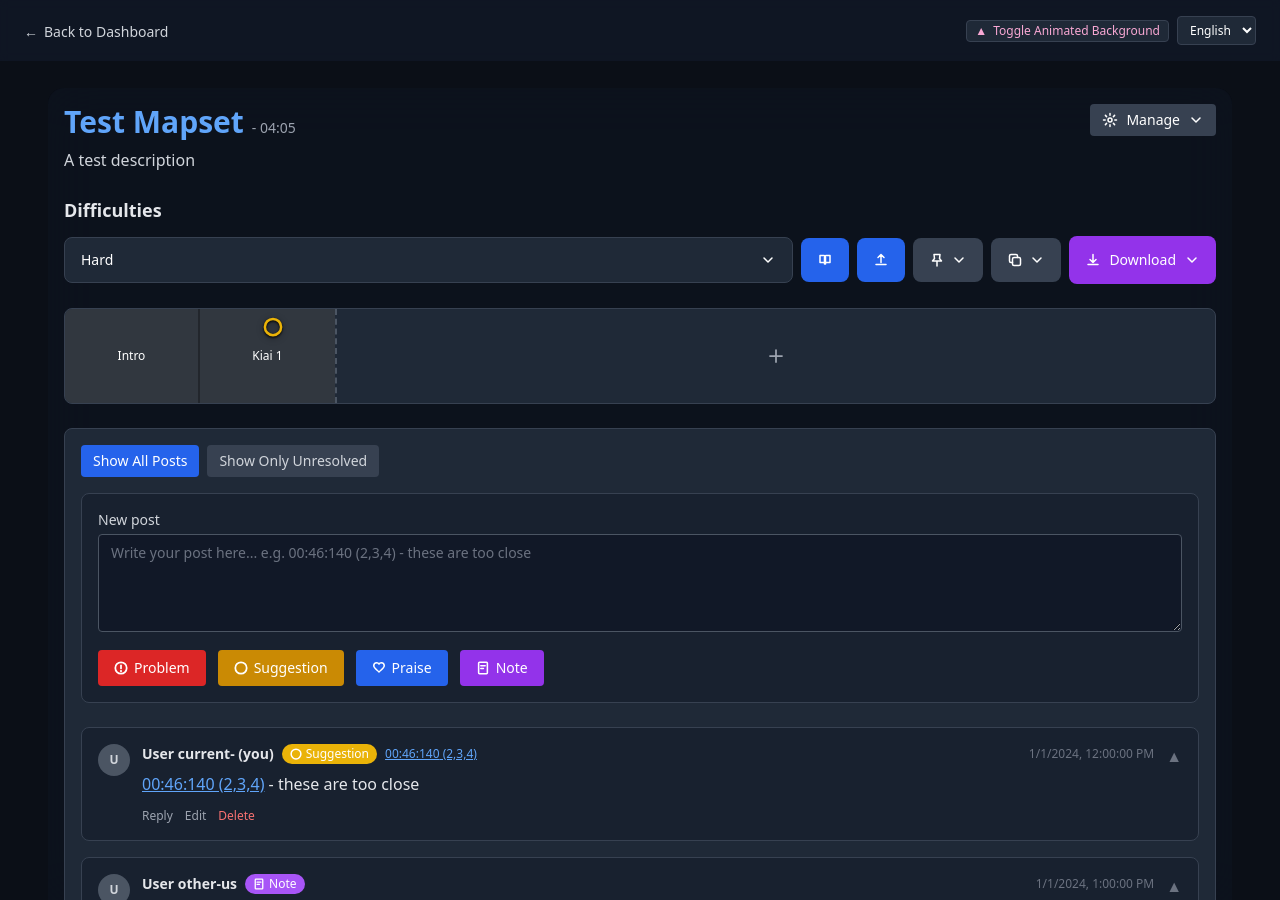
Test case: MapsetPage › shows Add Difficulty option for owner
Click the button with aria-label "Toggle difficulty list" at {"x": 97, "y": 260}, box [64,237,793,283]
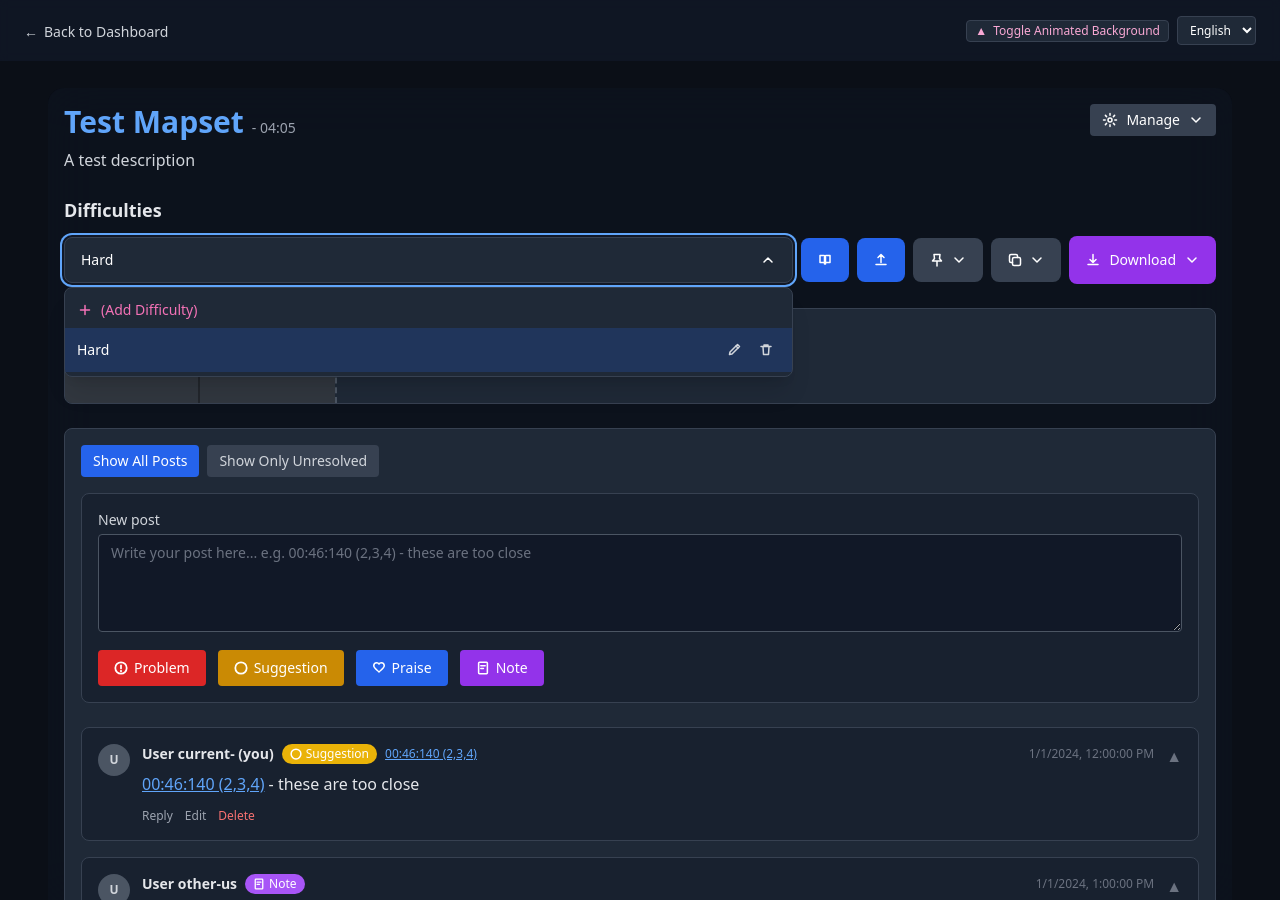
Check: the button "(Add Difficulty)" is shown, box [65,292,792,328]
